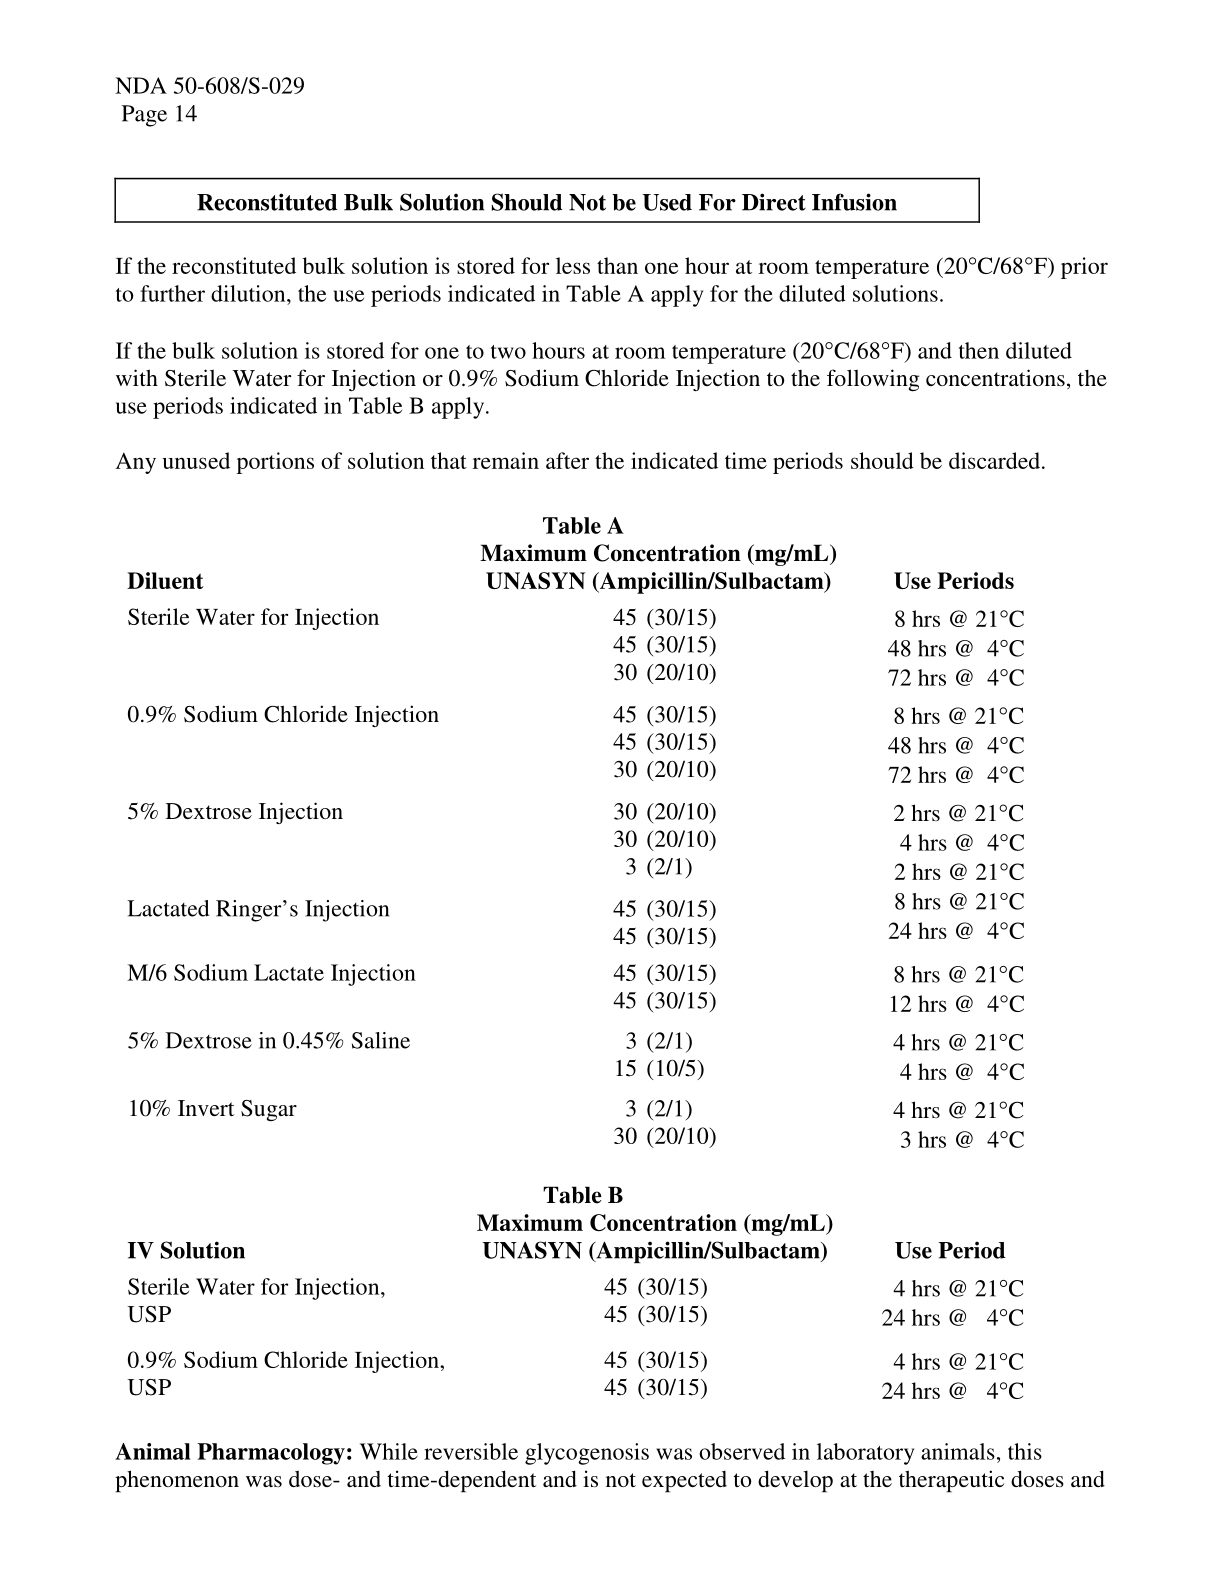nolines: (123, 541, 1029, 1155), (122, 1211, 1029, 1404)
